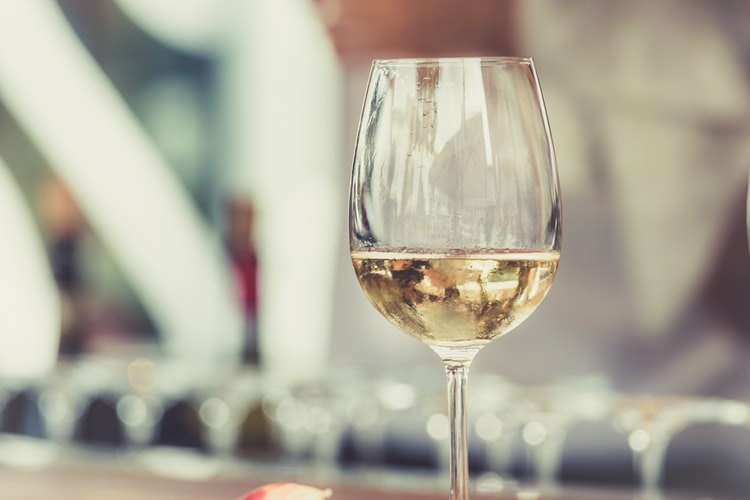whiskey: (358, 53, 558, 483)
